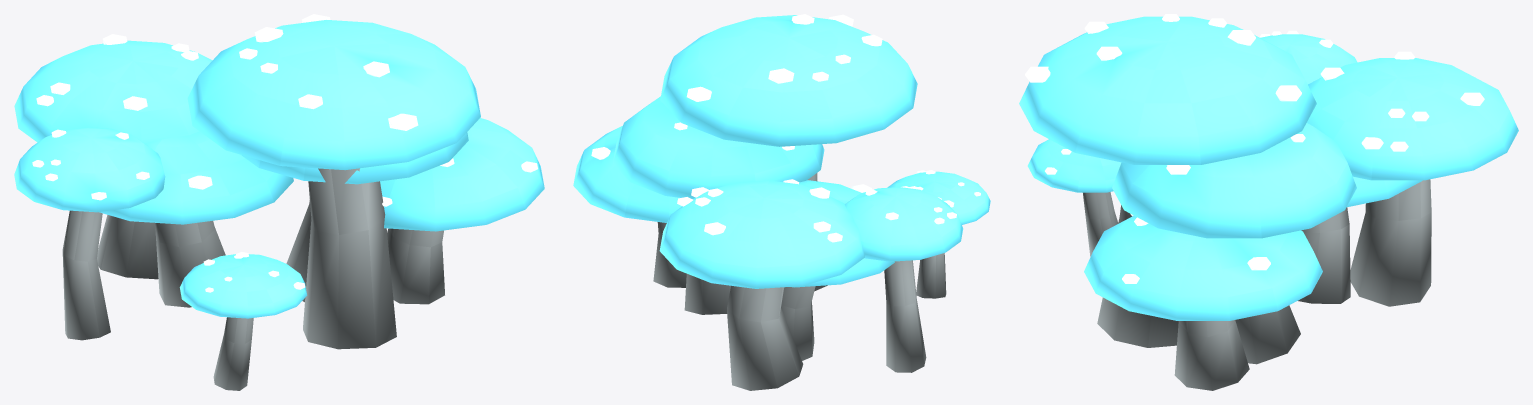
Rendered from obj_deco_hongos_2.glb.
The picture shows the model from 3 angles, left to right: view 1: azimuth 30°, elevation 25°; view 2: azimuth 150°, elevation 25°; view 3: azimuth 270°, elevation 25°; orthographic projection. The views are drawn at different scales.
Parts seen in each view (by area): view 1: propforge-libre-deco_hongos; view 2: propforge-libre-deco_hongos; view 3: propforge-libre-deco_hongos.
Boxes of the visible parts, x1,y1,x2,y2 form: propforge-libre-deco_hongos: [14, 14, 544, 390]; propforge-libre-deco_hongos: [573, 14, 990, 390]; propforge-libre-deco_hongos: [1019, 14, 1518, 390].
Size of the model in its own units: 0.6586 by 0.3976 by 0.6188.
